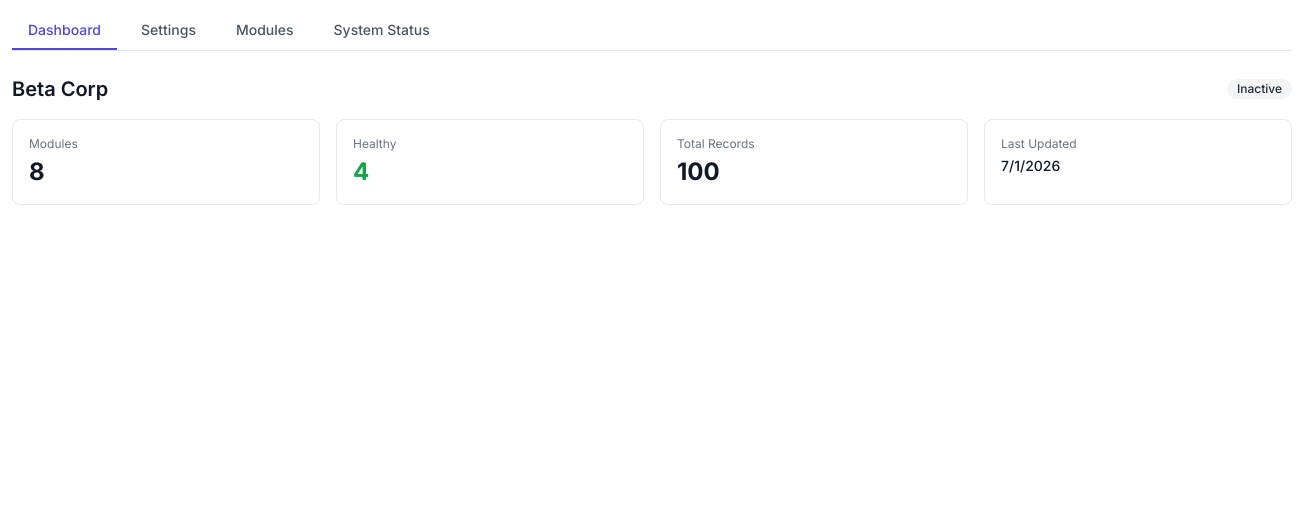
Test case: AdminCenter additional › clicking back to dashboard from settings works
Click the button with test id "tab-settings": (168, 31) [125,12,212,50]
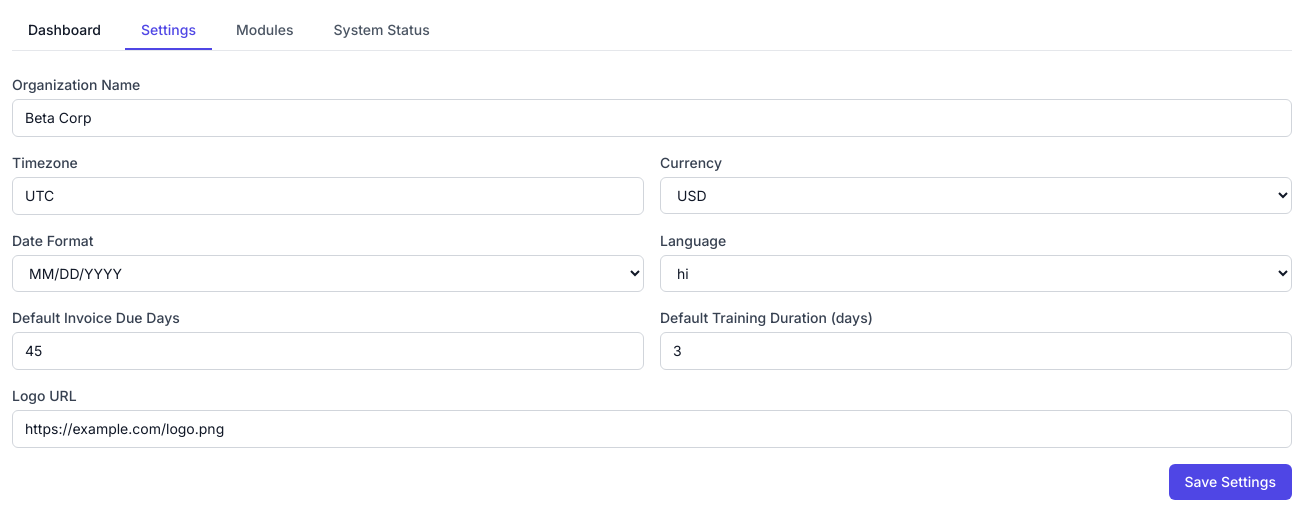
Click the button with test id "tab-dashboard": (64, 31) [12,12,117,50]
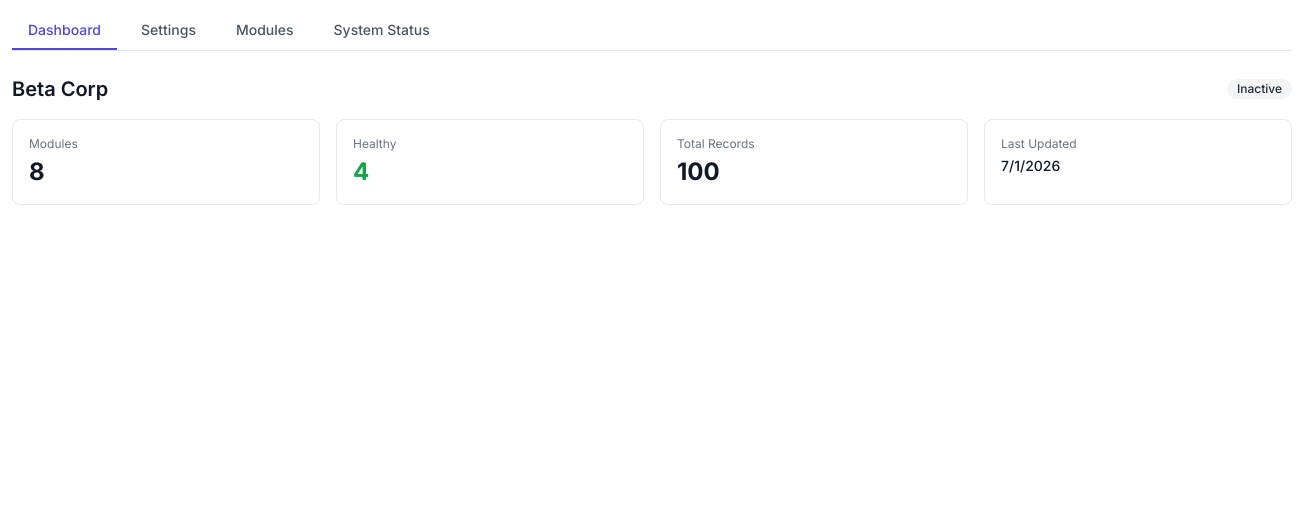
Now the element with test id "panel-dashboard" is shown, box [12,75,1292,205]
